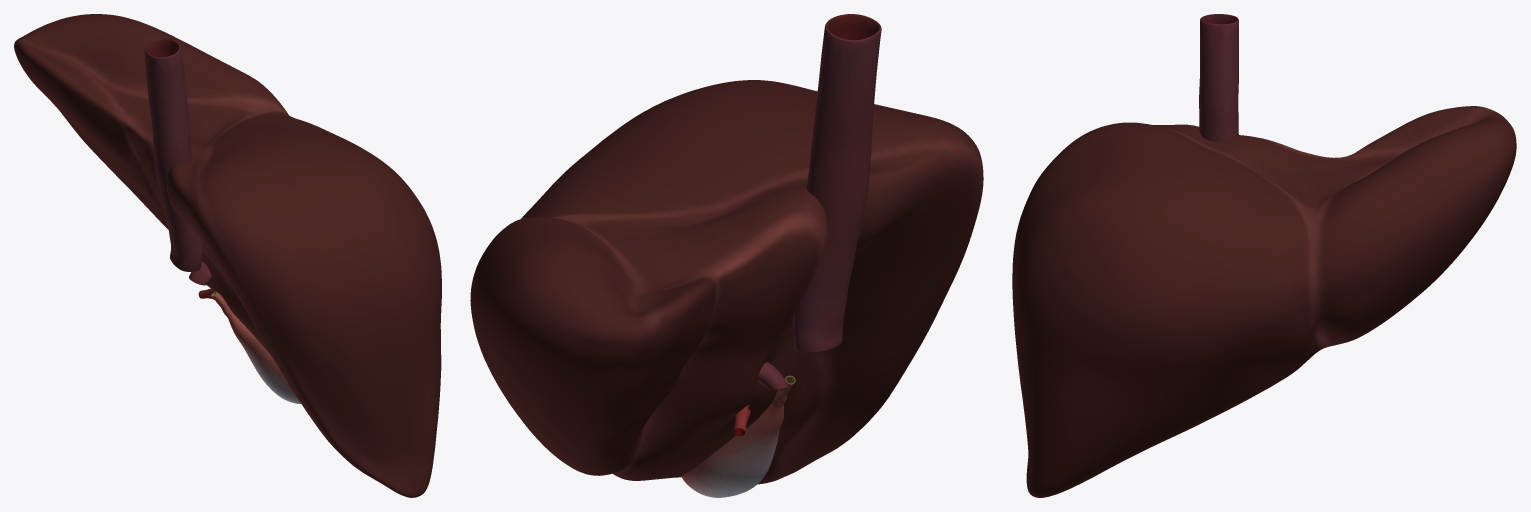
File: human_liver_and_gallbladder.glb
3 renders of one model, left to right at view 1: azimuth 30°, elevation 25°; view 2: azimuth 150°, elevation 25°; view 3: azimuth 270°, elevation 25°, orthographic. The views are drawn at different scales.
Parts seen in each view (by area): view 1: liver.001, inferior vena cava.001, gallbladder.002; view 2: liver.001, inferior vena cava.001, gallbladder.002, portal vein.001; view 3: liver.001, inferior vena cava.001.
Boxes of the visible parts, x1,y1,x2,y2 form: liver.001: [14, 14, 441, 497]; inferior vena cava.001: [144, 39, 203, 271]; gallbladder.002: [211, 291, 300, 403]; liver.001: [470, 80, 983, 484]; inferior vena cava.001: [793, 14, 881, 352]; gallbladder.002: [681, 375, 795, 497]; portal vein.001: [756, 362, 787, 390]; liver.001: [1012, 106, 1516, 497]; inferior vena cava.001: [1199, 14, 1238, 141].
Bounding box in the file's own units: 0.1362 × 0.2221 × 0.2515.
5 materials, 5 textured.
